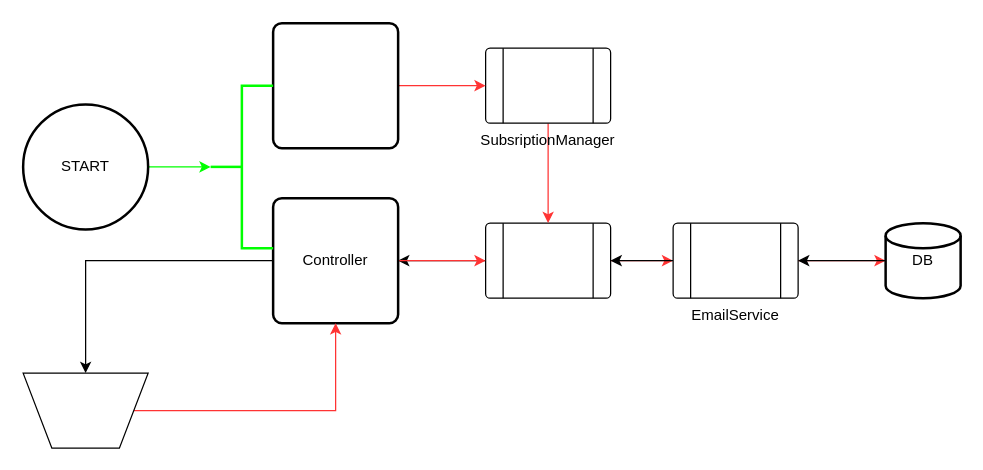
Some shapes in this 983 by 470 pixel diagram are drawn without their labels. Each missing label, with the centre of its shape:
Background Service: point (335, 85)
CLIENT: point (85, 410)
IEmailService: point (547, 260)
